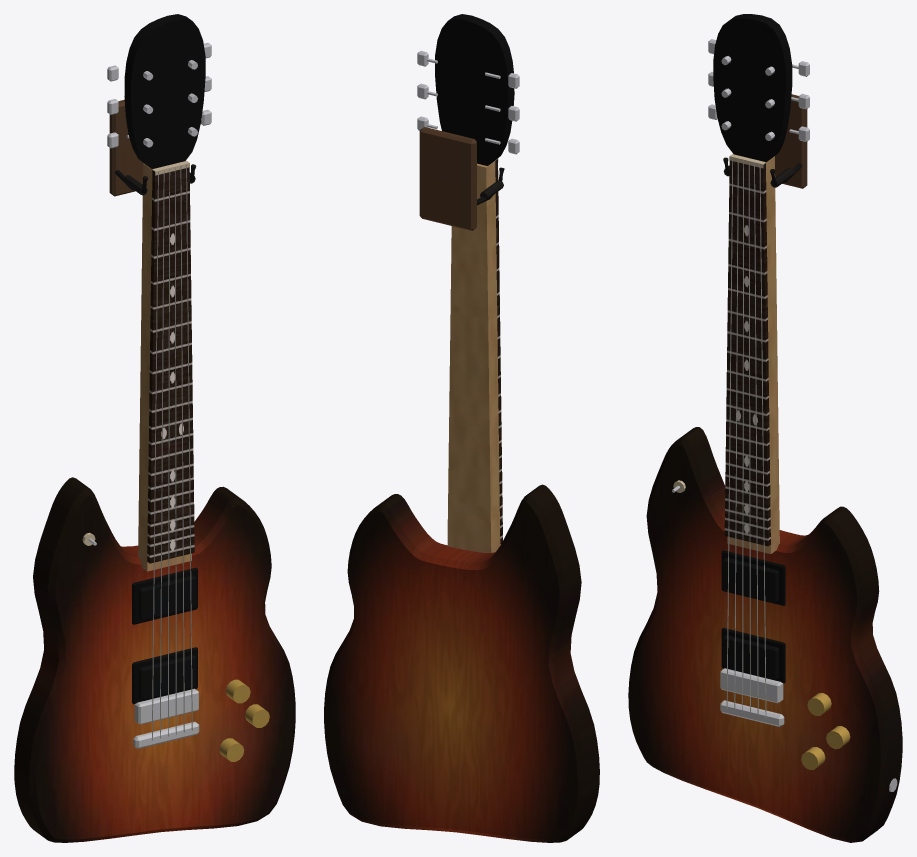
File: guitar.glb
3 views of the same model, side by side, from view 1: azimuth 30°, elevation 25°; view 2: azimuth 150°, elevation 25°; view 3: azimuth 330°, elevation 25° (orthographic). The views are drawn at different scales.
Visible parts, largest first — view 1: guitar; view 2: guitar; view 3: guitar.
Boxes of the visible parts, left/top/right/bottom form: guitar: left=14, top=14, right=295, bottom=842; guitar: left=324, top=14, right=599, bottom=842; guitar: left=628, top=14, right=902, bottom=842.
Bounding box in the file's own units: 0.3333 × 0.9894 × 0.0788.
1 material, 1 textured.
